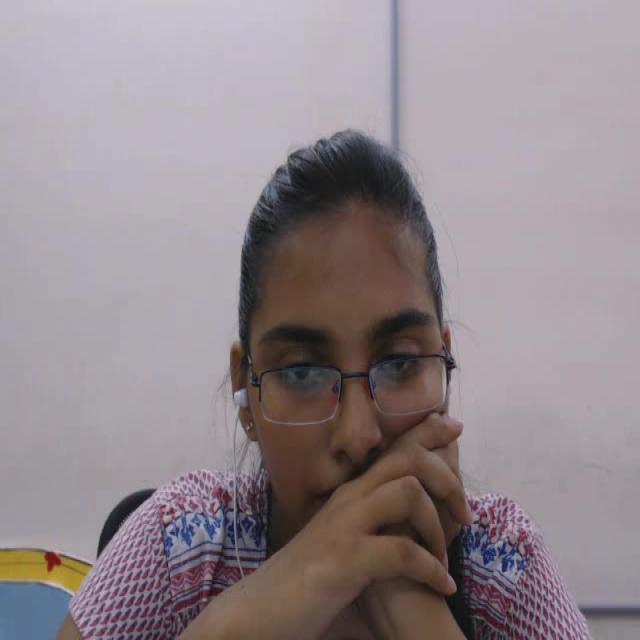Bored: (208, 108, 533, 640)
